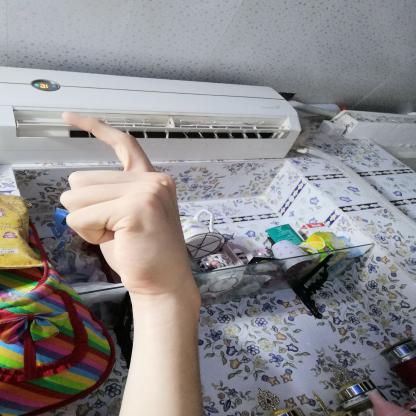RAA: (47, 104, 208, 298)
